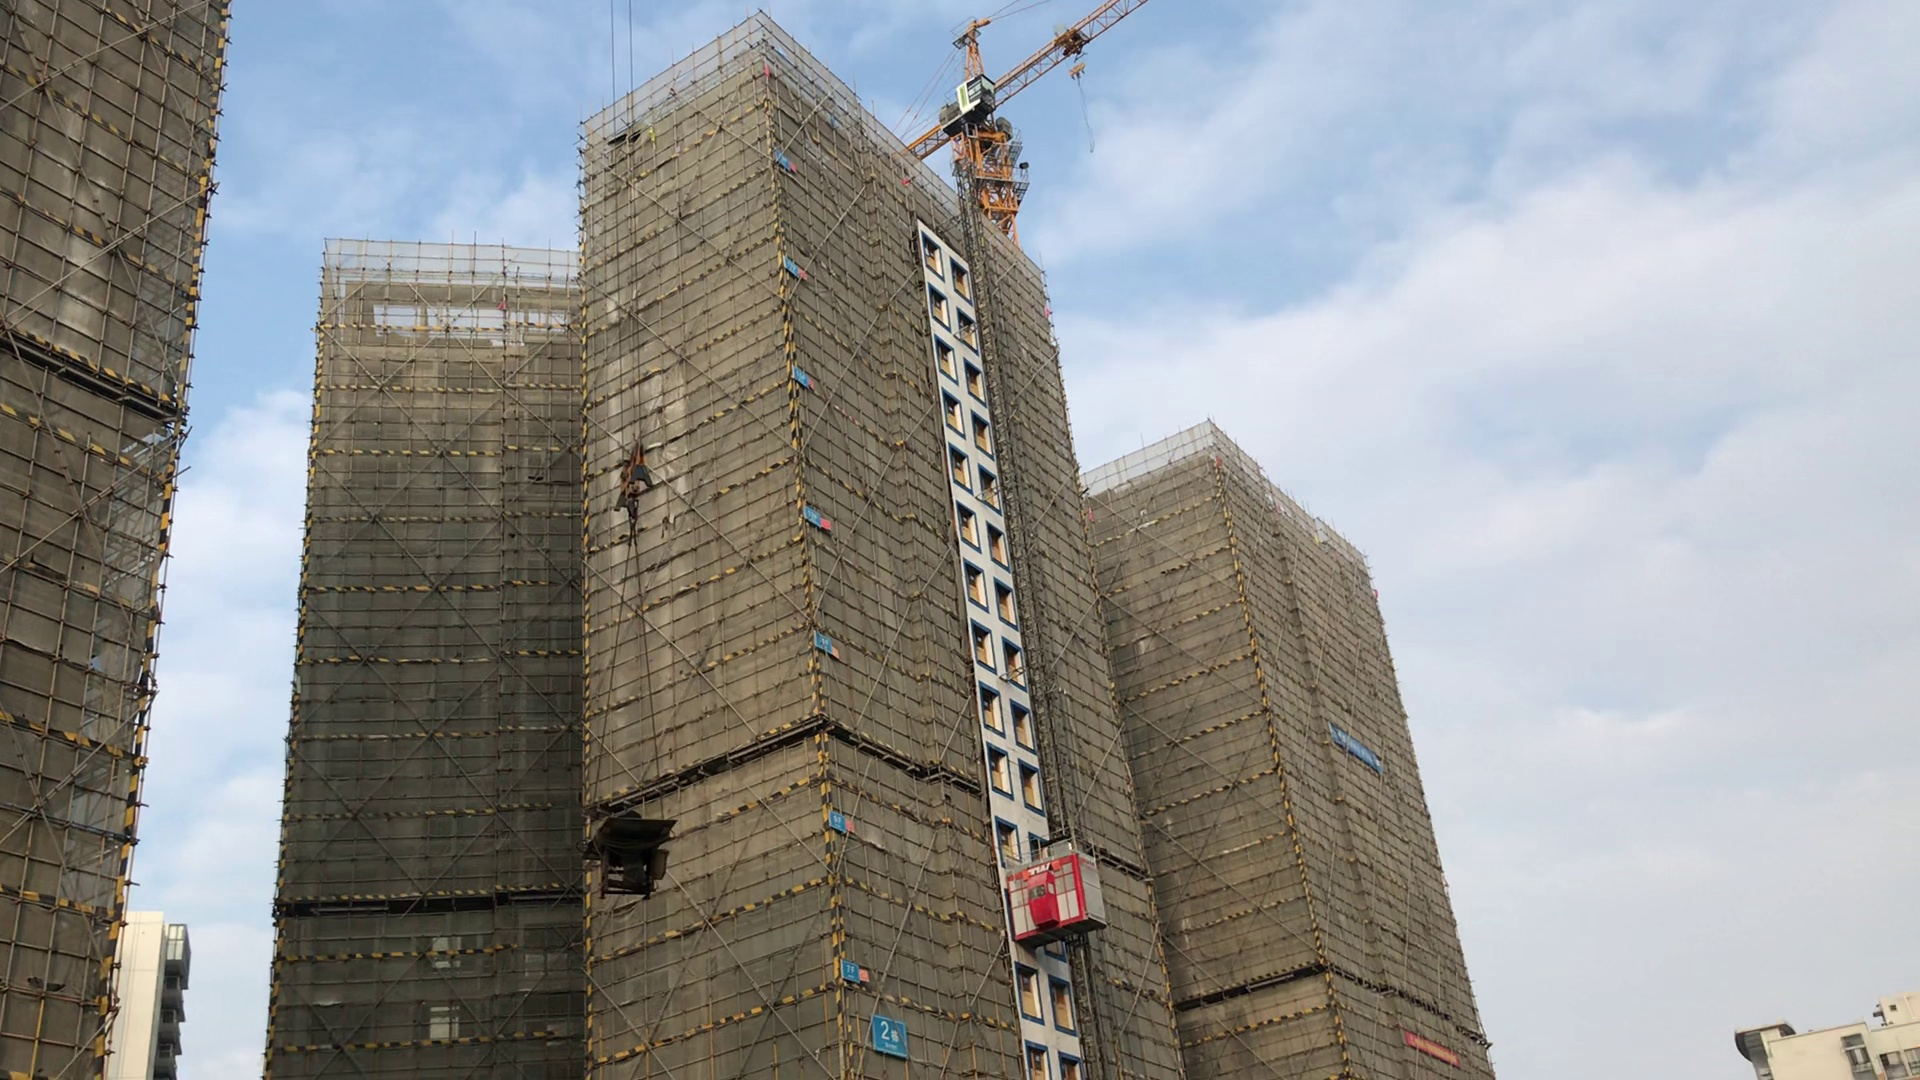hook: (611, 444, 665, 520), (1065, 61, 1091, 83)
slogan: (1331, 725, 1379, 771), (1404, 1033, 1460, 1067)
